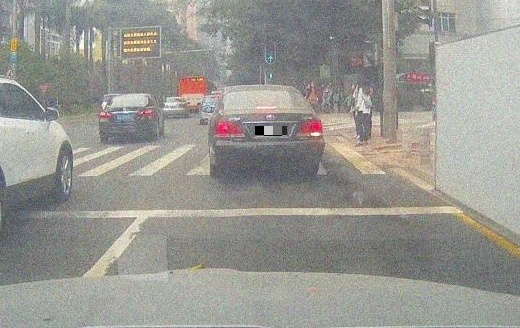L_light: (215, 120, 246, 138), (99, 111, 111, 119)
R_light: (298, 119, 323, 137), (138, 109, 153, 116)
T_light: (256, 107, 276, 110), (122, 96, 132, 99)
day-no: (99, 94, 155, 142)
day-right: (212, 85, 324, 177)
plate_1: (255, 126, 287, 136)
